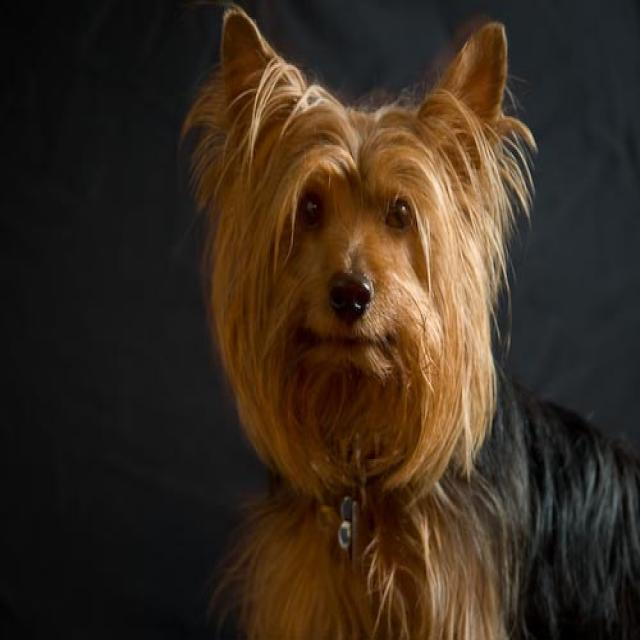dog-yorkshire_terrier: (178, 2, 637, 637)
